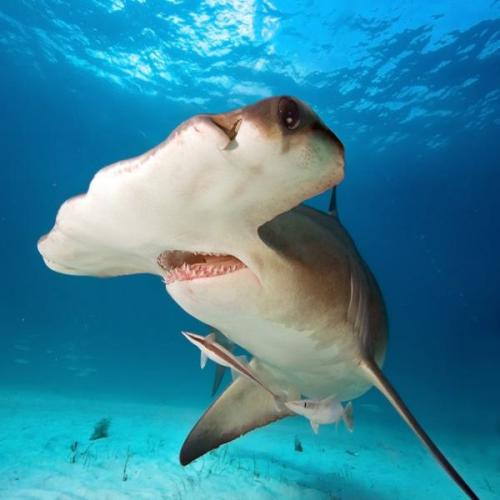shark-endangered: (37, 98, 478, 500)
